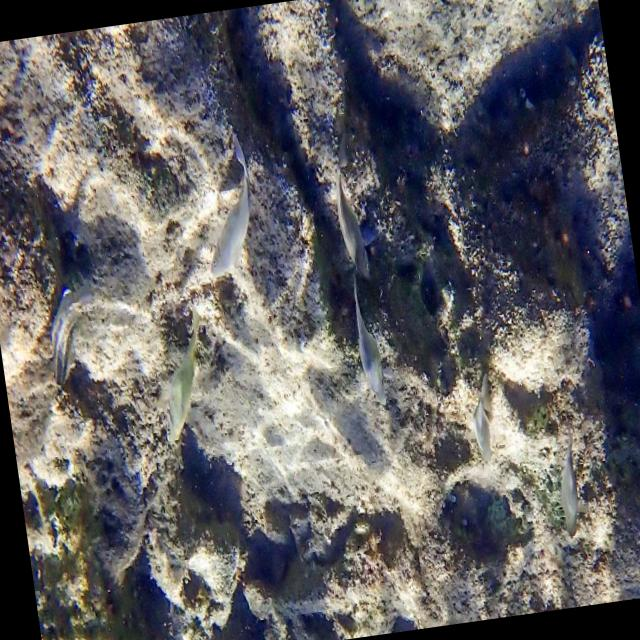Sokar Baligi: (187, 127, 274, 296), (142, 310, 224, 458), (460, 362, 511, 474)
